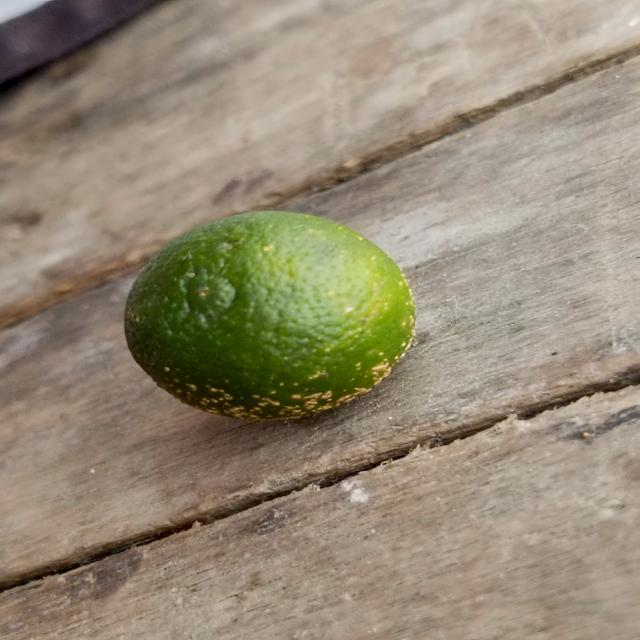scab: (126, 205, 430, 432)
